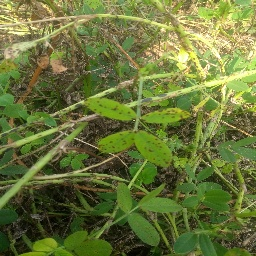GroundNut_Leaf: (84, 97, 138, 122), (63, 230, 114, 254), (140, 130, 170, 166), (98, 130, 137, 155), (135, 214, 161, 249), (140, 107, 192, 124), (138, 196, 182, 214), (171, 231, 200, 255), (1, 96, 29, 119), (115, 182, 132, 214), (1, 60, 20, 87), (223, 142, 256, 157), (200, 187, 230, 203), (32, 238, 58, 253), (225, 78, 249, 94), (225, 56, 242, 75), (1, 208, 18, 225), (203, 232, 214, 256), (1, 165, 27, 175), (121, 36, 135, 51), (1, 233, 9, 252), (178, 94, 190, 106), (71, 160, 82, 170)
